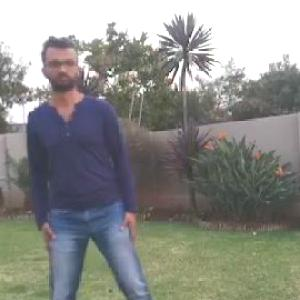follow: (24, 35, 132, 299)
